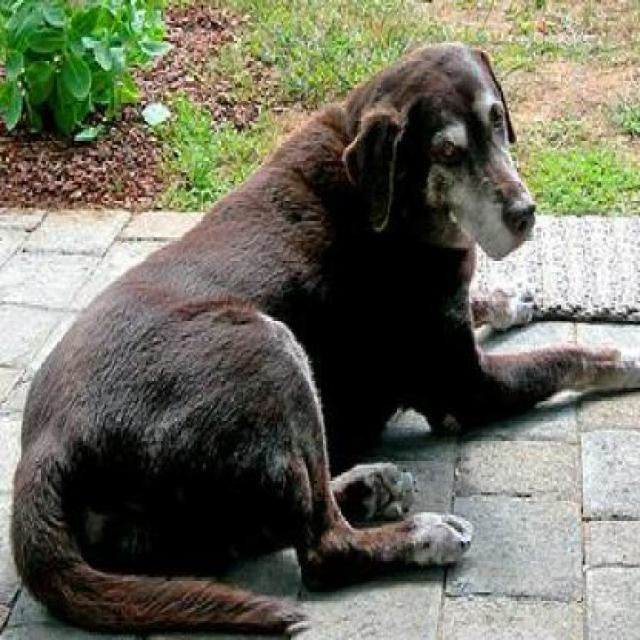Dog: (9, 35, 638, 637)
